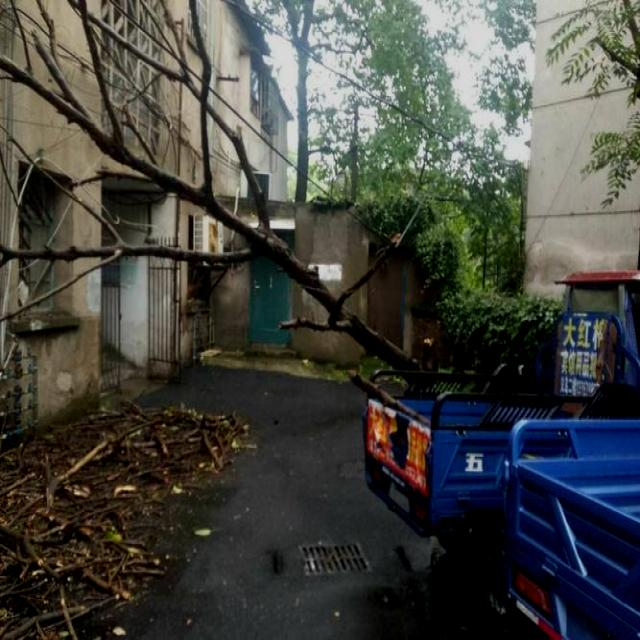fallen_object: (0, 0, 433, 376)
